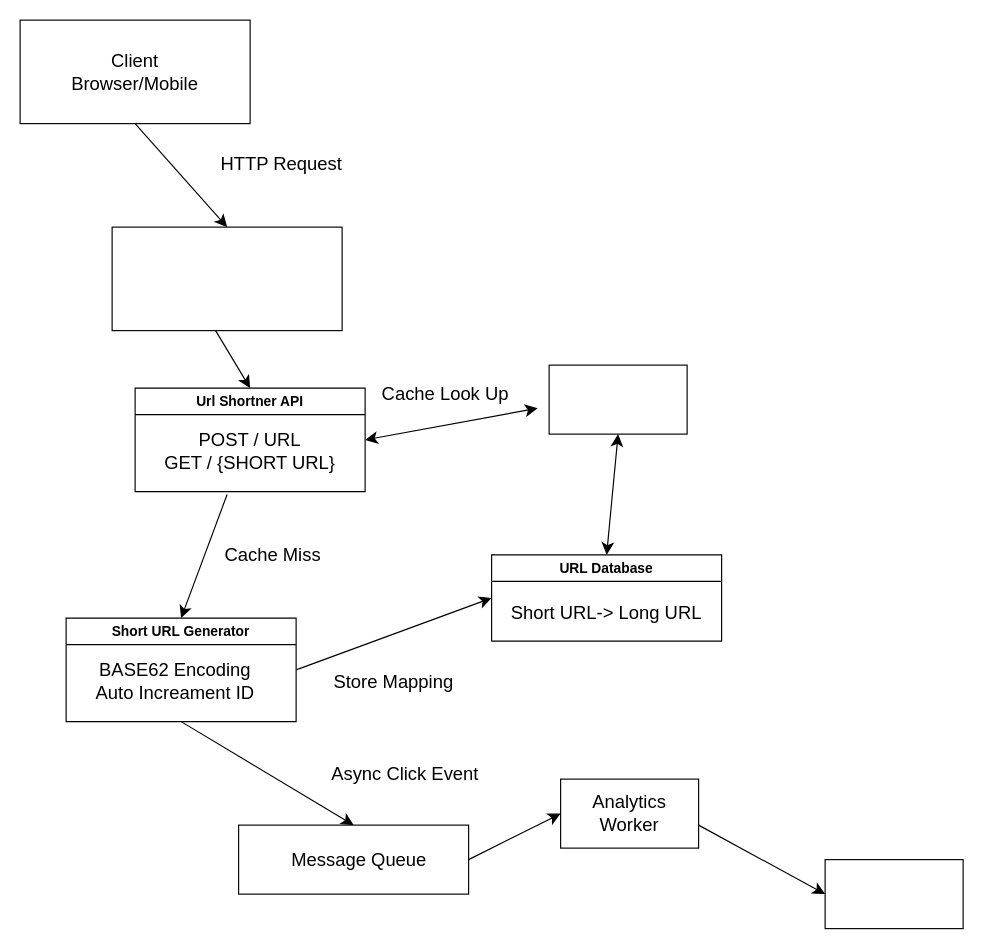
The diagram is 983 pixels wide and 949 high, and some of its shapes have lost their labels. The centre of each missing label's shape, as x and y in pixels:
Analytics Database: (x=893, y=893)
Load Balancer: (x=226, y=278)
Redis Cache: (x=617, y=399)
